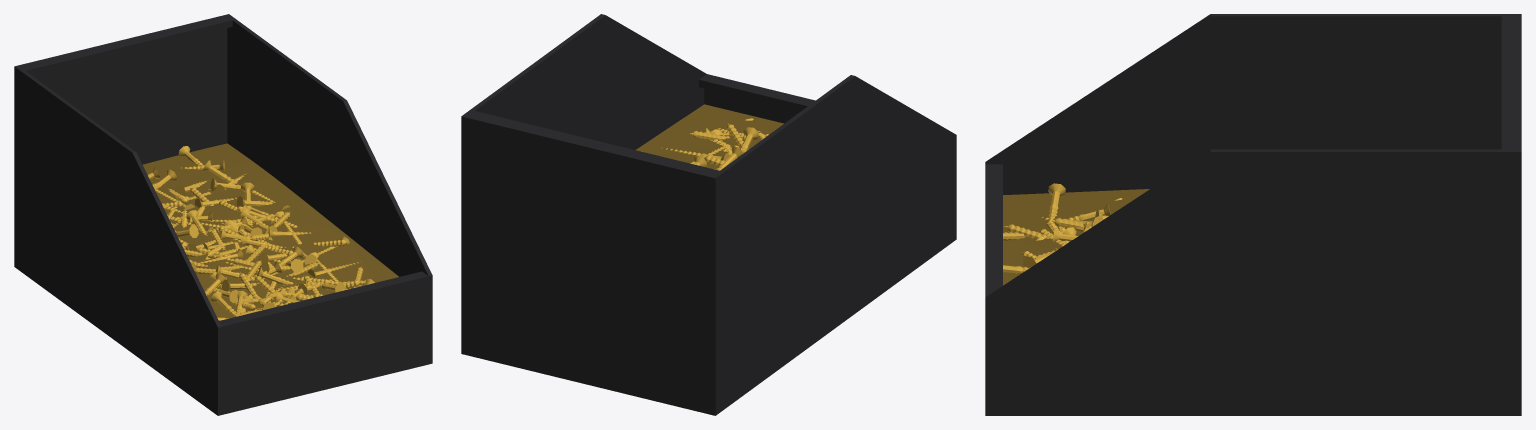
Rendered from bin_parafusos.dae.
3 renders of one model, left to right at view 1: azimuth 30°, elevation 25°; view 2: azimuth 150°, elevation 25°; view 3: azimuth 270°, elevation 25°, orthographic. The views are drawn at different scales.
Visible parts, largest first — view 1: Caixa bin, Monte parafusos; view 2: Caixa bin, Monte parafusos; view 3: Caixa bin, Monte parafusos.
Boxes of the visible parts, bbox=[...] form: Caixa bin: bbox=[14, 14, 432, 415]; Monte parafusos: bbox=[143, 143, 398, 318]; Caixa bin: bbox=[461, 14, 956, 415]; Monte parafusos: bbox=[635, 104, 783, 169]; Caixa bin: bbox=[985, 14, 1521, 415]; Monte parafusos: bbox=[1003, 189, 1149, 285].
Bounding box in the file's own units: 140 × 230 × 125.
